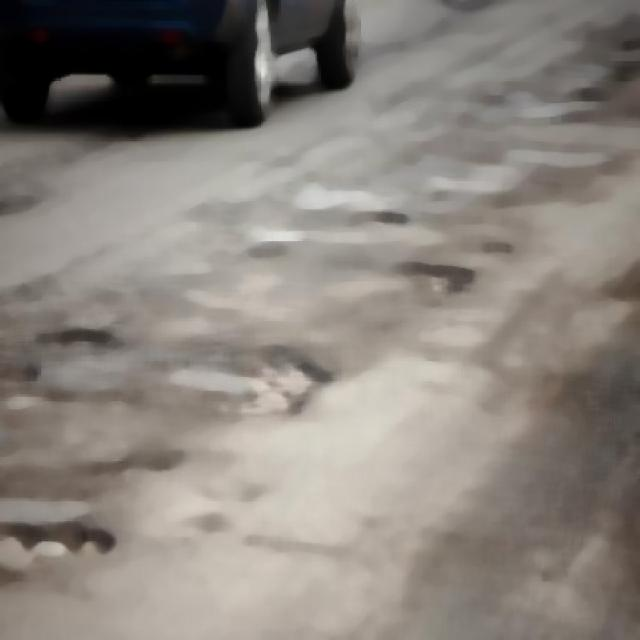Pothole: (183, 320, 329, 434), (0, 484, 123, 601), (406, 257, 488, 309), (41, 320, 121, 362), (364, 202, 422, 242)
